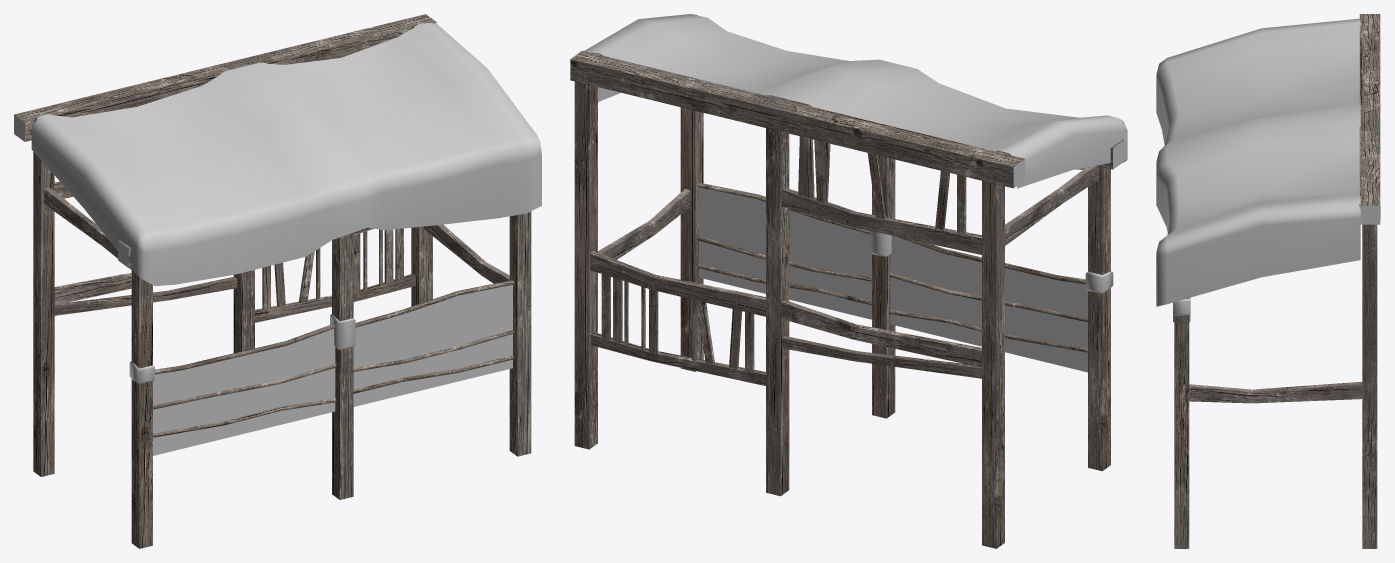
The model's file is Stall2.fbx.
3 renders of one model, left to right at view 1: azimuth 30°, elevation 25°; view 2: azimuth 150°, elevation 25°; view 3: azimuth 270°, elevation 25°, orthographic. The views are drawn at different scales.
Visible parts, largest first — view 1: polySurface2549; view 2: polySurface2549; view 3: polySurface2549.
Boxes of the visible parts, x1=… form: polySurface2549: x1=14, y1=14, x2=541, y2=548; polySurface2549: x1=570, y1=14, x2=1127, y2=548; polySurface2549: x1=1156, y1=14, x2=1380, y2=548.
Size of the model in its own units: 5.48 by 4.57 by 2.68.
